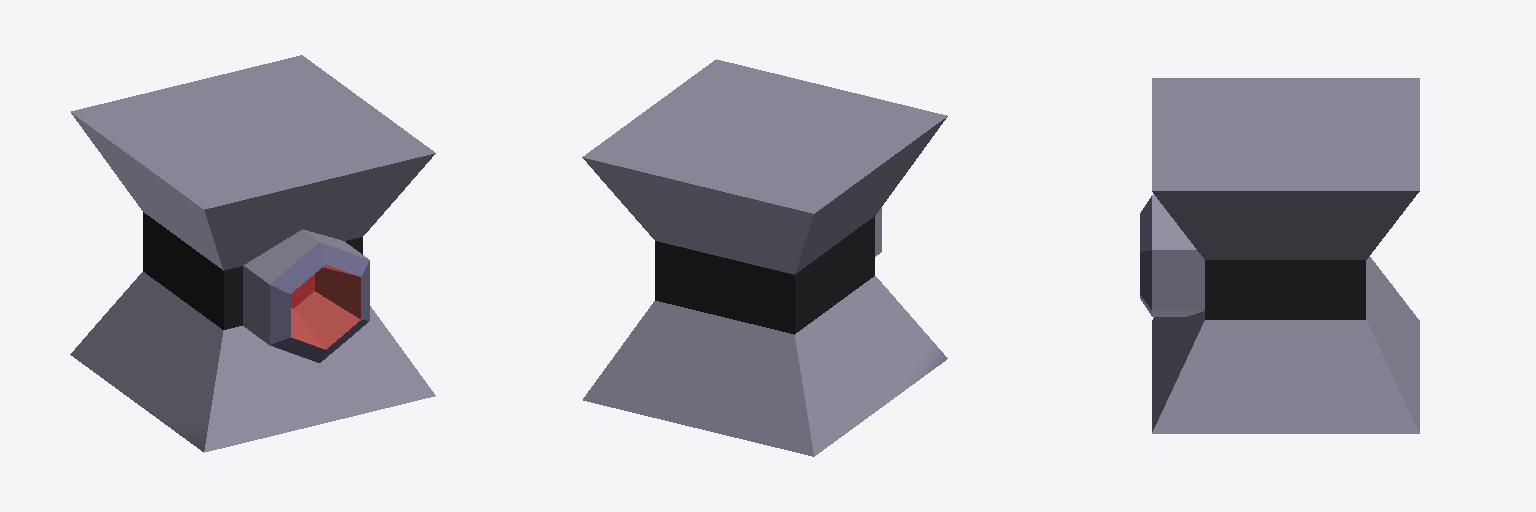
3 renders of one model, left to right at view 1: azimuth 30°, elevation 25°; view 2: azimuth 150°, elevation 25°; view 3: azimuth 270°, elevation 25°, orthographic.
Visible parts, largest first — view 1: Cube; view 2: Cube; view 3: Cube.
Boxes of the visible parts, x1=… form: Cube: x1=70, y1=55, x2=435, y2=452; Cube: x1=582, y1=59, x2=947, y2=456; Cube: x1=1140, y1=78, x2=1419, y2=433.
Size of the model in its own units: 1 by 1 by 1.04.
Materials: 1 (1 with a texture image).